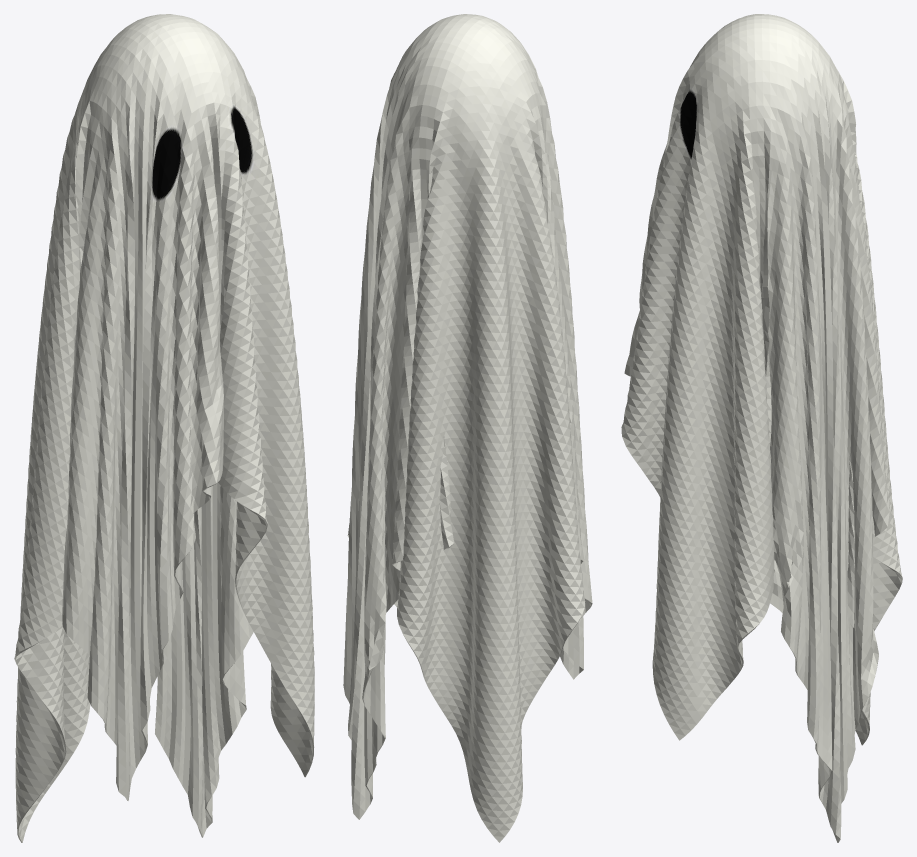
Rendered from soul.glb.
The picture shows the model from 3 angles, left to right: view 1: azimuth 30°, elevation 25°; view 2: azimuth 150°, elevation 25°; view 3: azimuth 270°, elevation 25°; orthographic projection. The views are drawn at different scales.
Visible parts, largest first — view 1: Plane003, Plane003_Material #27_0.001; view 2: Plane003, Plane003_Material #27_0.001; view 3: Plane003, Plane003_Material #27_0.001.
Boxes of the visible parts, x1,y1,x2,y2 form: Plane003: (14,14,314,842); Plane003_Material #27_0.001: (15,53,312,828); Plane003: (347,14,592,804); Plane003_Material #27_0.001: (343,33,591,842); Plane003: (621,14,902,842); Plane003_Material #27_0.001: (655,32,902,838).
Size of the model in its own units: 0.1093 by 0.328 by 0.1059.
1 material, 1 textured.
